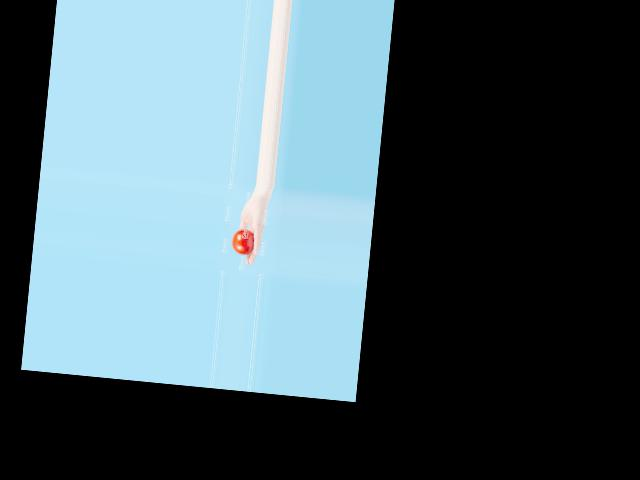tomato: (231, 228, 255, 255)
